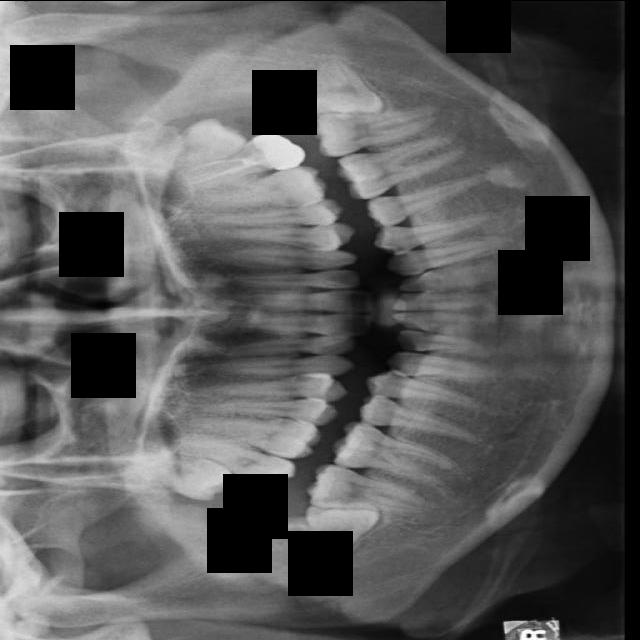3M ESPE Implant: (144, 452, 235, 504)
52: (244, 119, 313, 182)
73: (175, 141, 272, 191), (584, 30, 596, 42)
BioHorizons Implant: (171, 126, 307, 195)
BioLife Implant: (134, 110, 246, 176)
Biomet 3i Implant: (295, 52, 388, 144)
Blue Sky Bio Implant: (313, 99, 438, 157)
Caries: (175, 425, 299, 501)
Implant: (303, 462, 429, 514)
Keystone Dental Implant: (305, 503, 380, 561)
